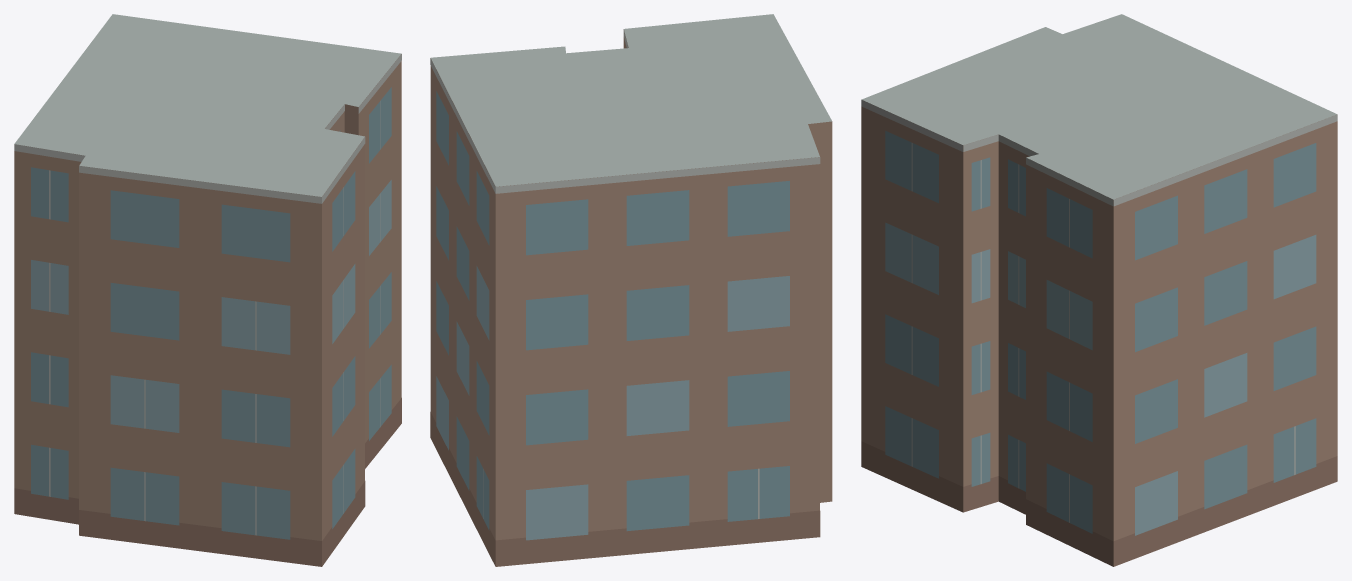
The model's file is survey-upis-32928548.glb.
The picture shows the model from 3 angles, left to right: view 1: azimuth 30°, elevation 25°; view 2: azimuth 150°, elevation 25°; view 3: azimuth 270°, elevation 25°; orthographic projection. The views are drawn at different scales.
Parts seen in each view (by area): view 1: survey-upis-32928548.tmp; view 2: survey-upis-32928548.tmp; view 3: survey-upis-32928548.tmp.
Boxes of the visible parts, x1,y1,x2,y2 form: survey-upis-32928548.tmp: (14,14,401,566); survey-upis-32928548.tmp: (430,14,832,566); survey-upis-32928548.tmp: (861,14,1337,566).
Size of the model in its own units: 14.16 by 13.05 by 15.34.
